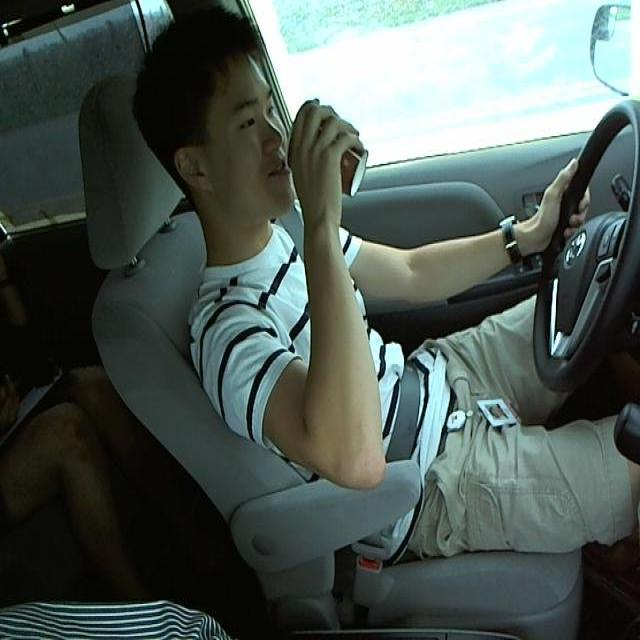drinking: (282, 88, 370, 196)
